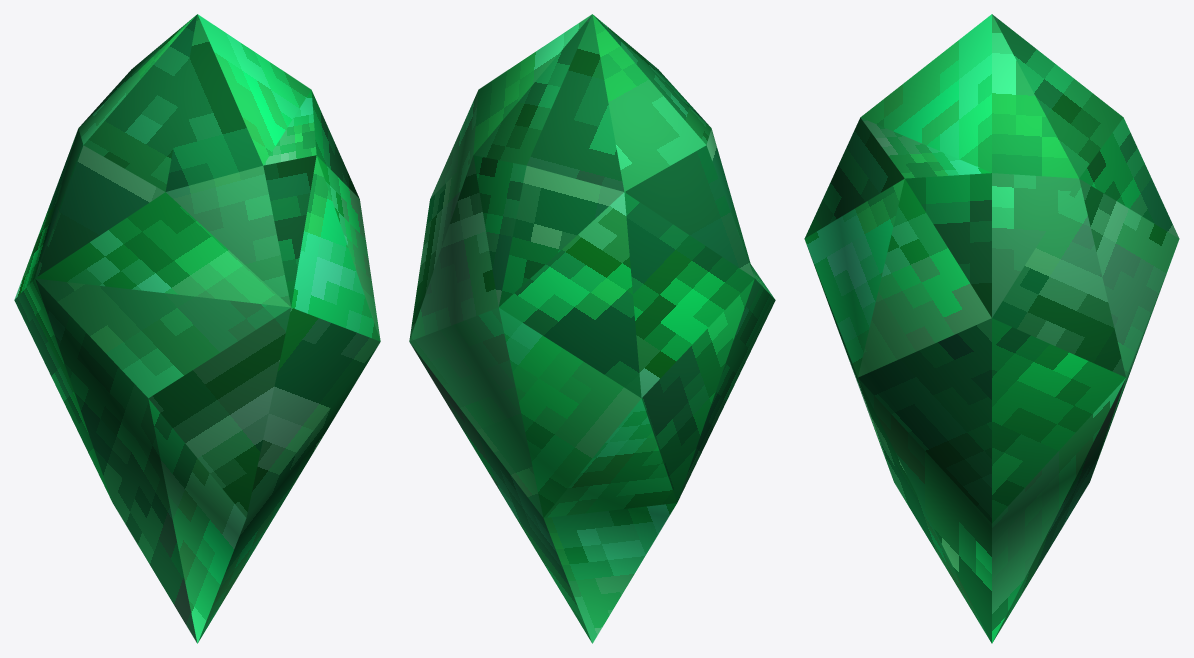
The model's file is Shard.obj.
The picture shows the model from 3 angles, left to right: view 1: azimuth 30°, elevation 25°; view 2: azimuth 150°, elevation 25°; view 3: azimuth 270°, elevation 25°; orthographic projection.
Size of the model in its own units: 4.19 by 7.76 by 4.19.
Materials: 1 (1 with a texture image).
